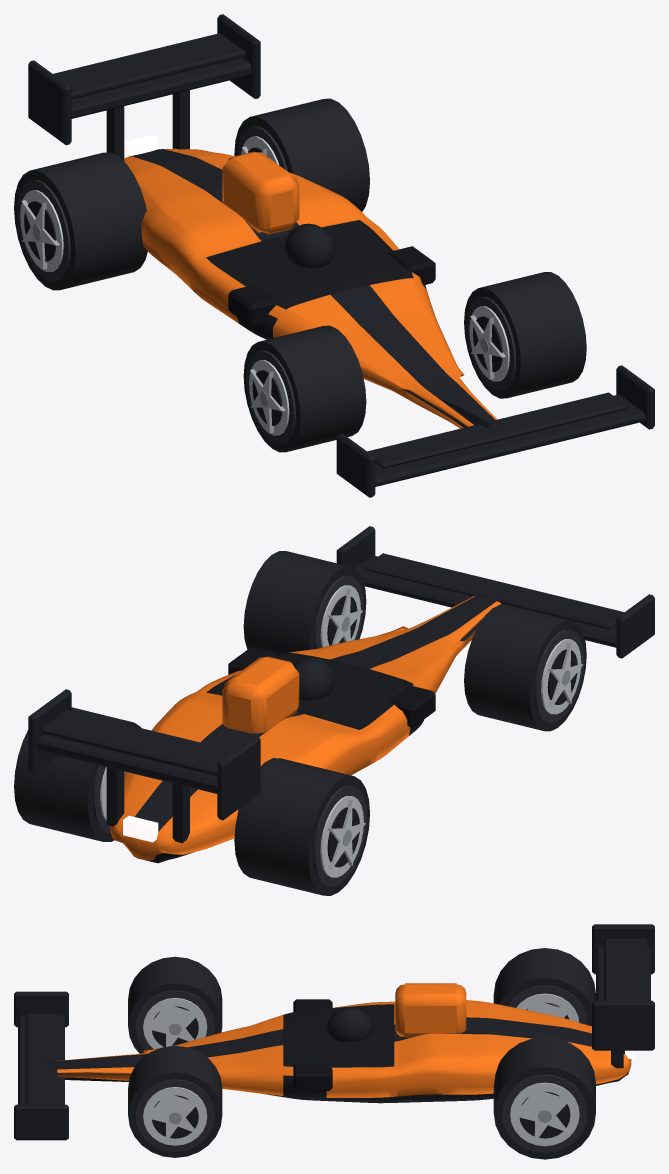
The model's file is racecar_orange.glb.
The picture shows the model from 3 angles, top to bottom: view 1: azimuth 30°, elevation 25°; view 2: azimuth 150°, elevation 25°; view 3: azimuth 270°, elevation 25°; orthographic projection. The views are drawn at different scales.
Visible parts, largest first — view 1: body, wheel_rl, wheel_fr, wheel_fl, wheel_rr; view 2: body, wheel_rl, wheel_fl, wheel_fr, wheel_rr; view 3: body, wheel_rr, wheel_fr, wheel_fl, wheel_rl.
Part boxes in pixels (x1,y1,x2,y2): body: [28, 14, 654, 497]; wheel_rl: [14, 152, 147, 290]; wheel_fr: [464, 272, 586, 398]; wheel_fl: [243, 325, 366, 452]; wheel_rr: [234, 98, 369, 211]; body: [28, 526, 654, 863]; wheel_rl: [234, 758, 369, 895]; wheel_fl: [464, 604, 586, 731]; wheel_fr: [243, 551, 366, 654]; wheel_rr: [14, 707, 140, 841]; body: [14, 924, 654, 1140]; wheel_rr: [493, 1037, 595, 1159]; wheel_fr: [128, 1046, 222, 1157]; wheel_fl: [128, 956, 222, 1053]; wheel_rl: [493, 948, 595, 1025].
Size of the model in its own units: 2.36 by 1.2 by 5.09.
